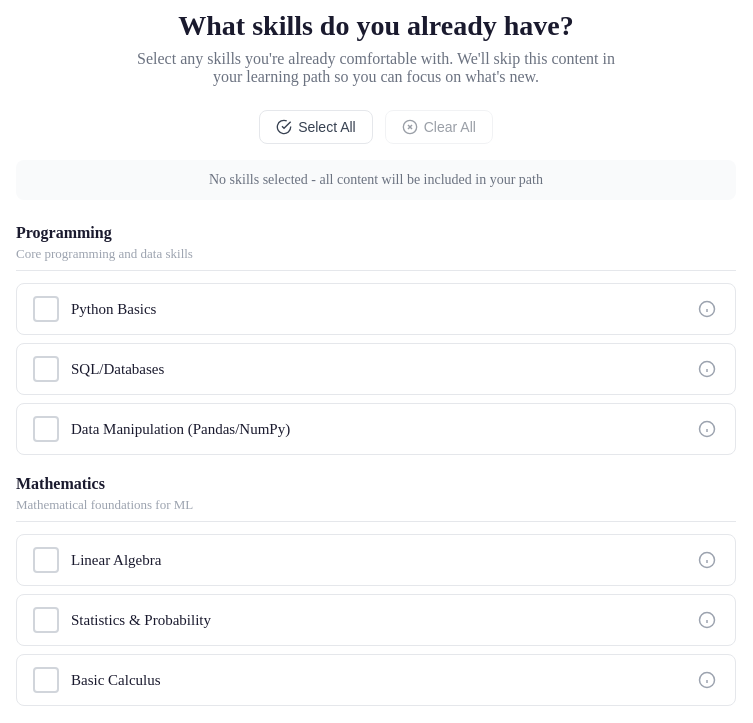
Step4ExistingSkills › selection status display › should display count when some skills selected
Click the checkbox with test id "skill-checkbox-python-basics": (114, 309) [33,296,719,322]
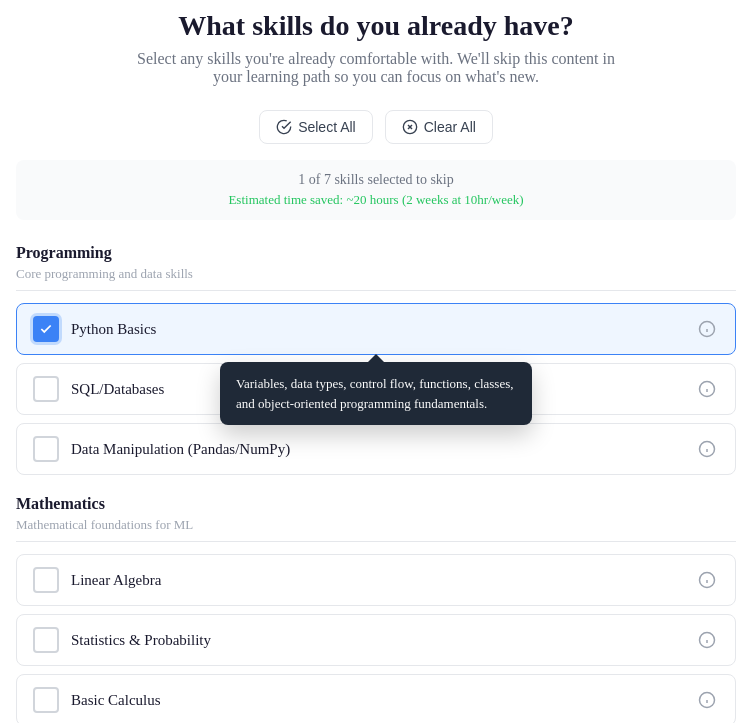
Now the element with test id "selection-status" shows "1 of 7 skills selected", box [298,172,454,187]
